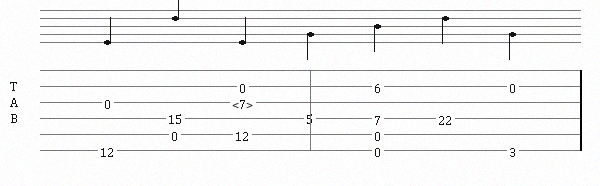0: (104, 96, 115, 109), (171, 128, 182, 141), (239, 80, 250, 93), (374, 128, 385, 141), (374, 144, 385, 157), (509, 80, 520, 93)
12: (100, 144, 118, 157), (235, 128, 253, 141)
15: (168, 111, 186, 125)
22: (438, 112, 456, 125)
3: (509, 144, 520, 157)
5: (306, 111, 317, 125)
6: (374, 80, 385, 93)
7: (374, 112, 385, 125)
harmonic: (232, 96, 257, 109)
